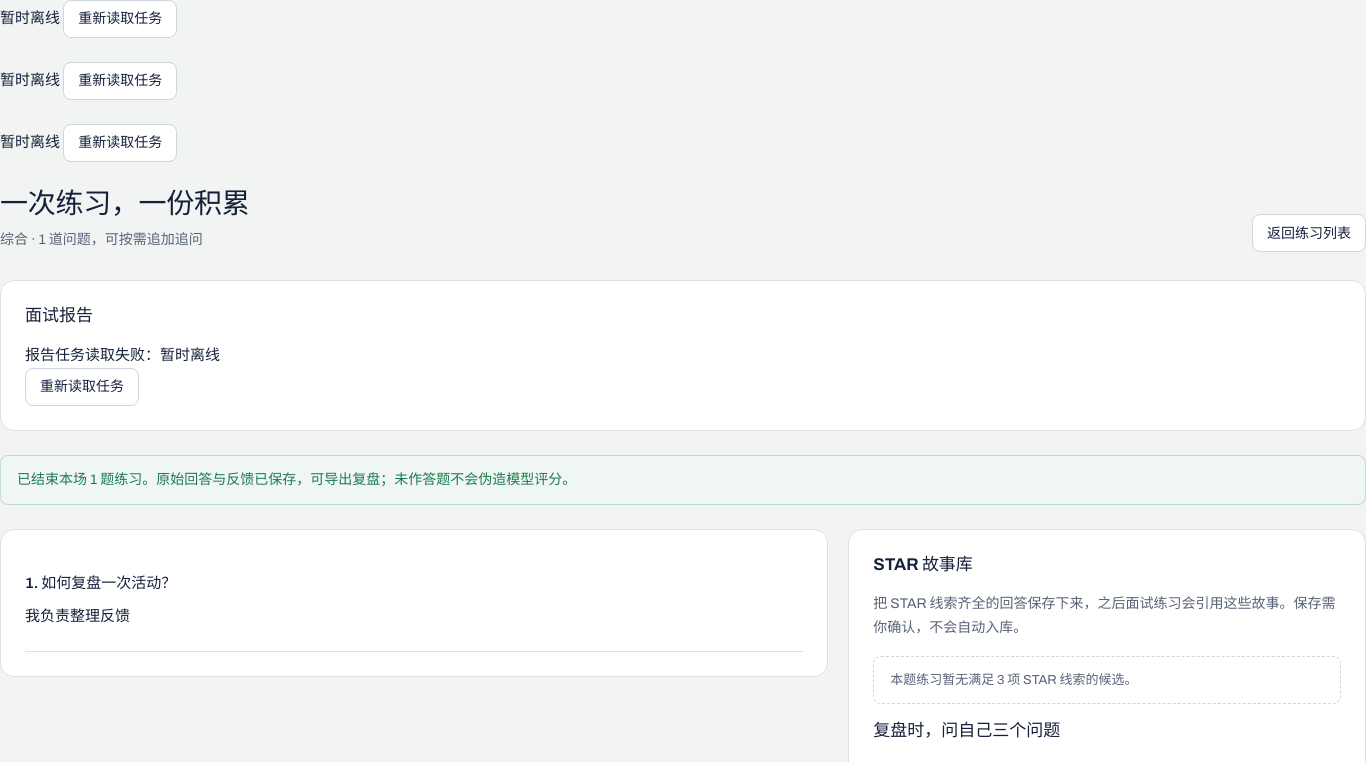
Scenario: blocks duplicate generation while task restore fails and recovers without a POST
Click the button "重新读取任务" below "报告任务读取失败：暂时离线" at (82, 387), box [25, 368, 139, 406]
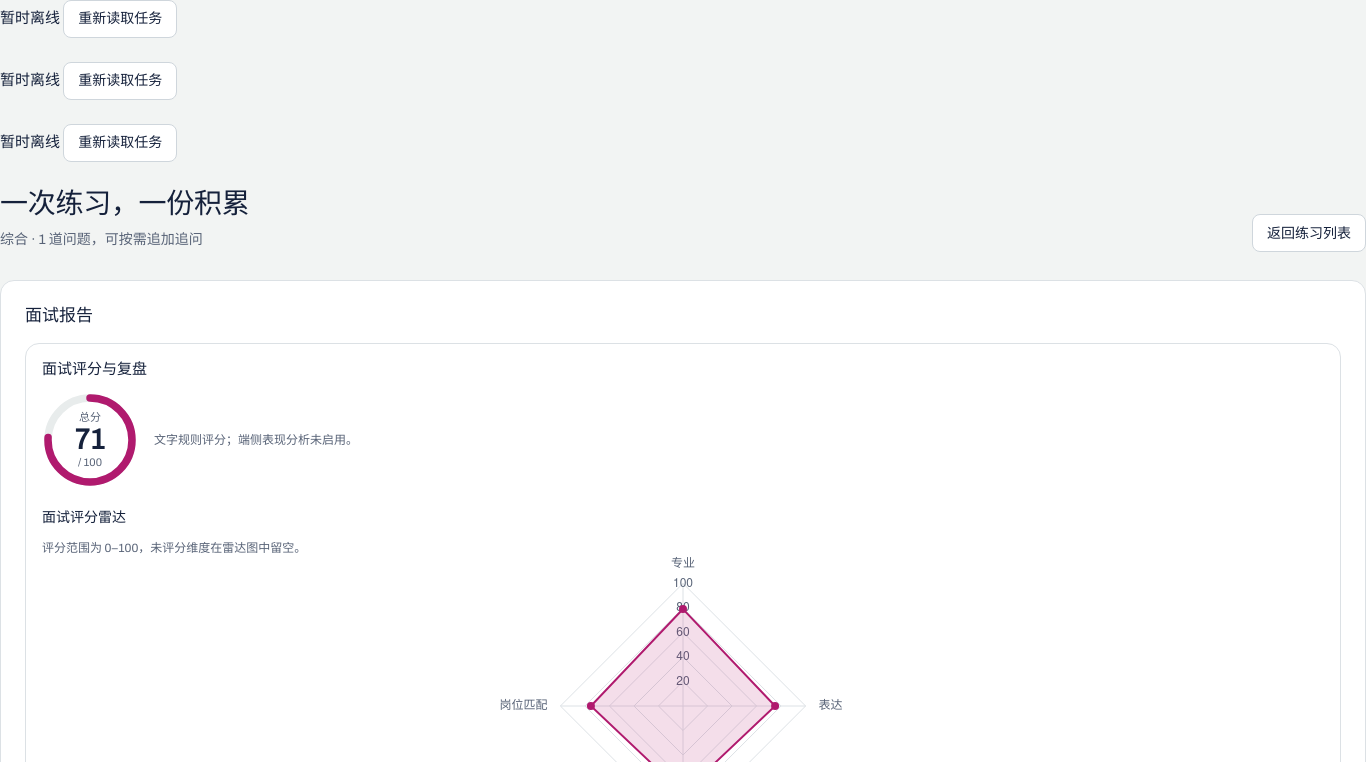
Result: the text "面试评分与复盘" is shown at [42, 361, 147, 377]
